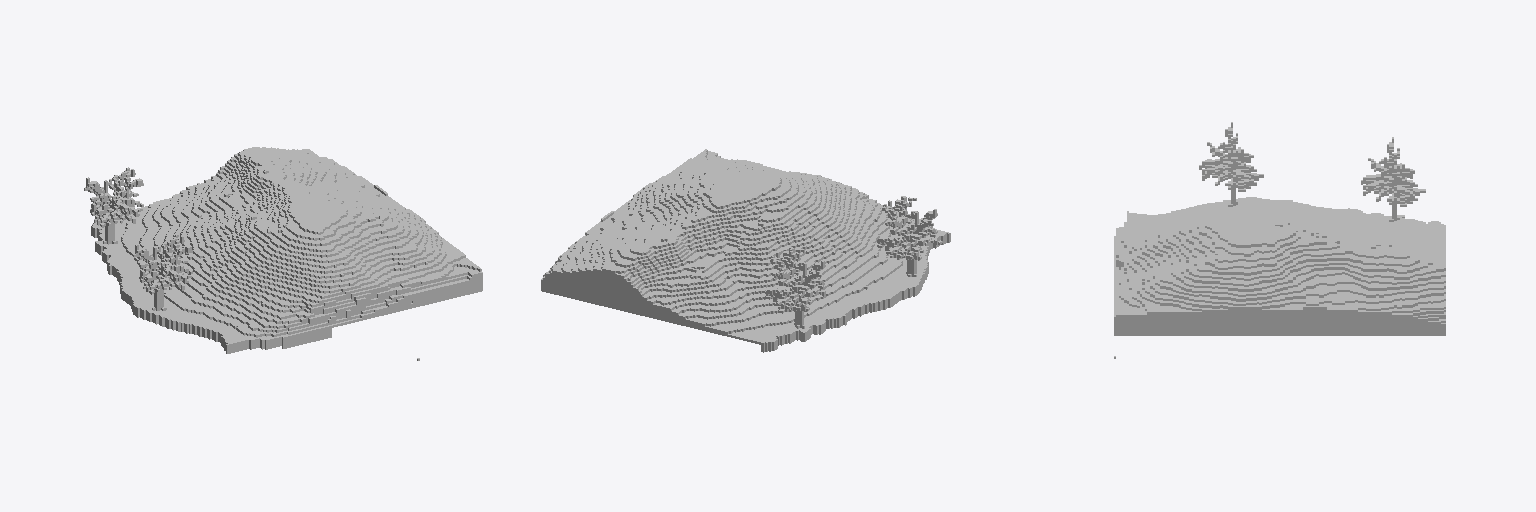
Rendered from Sunkeny City -  Voxel Desert-9-tile 9 - above water 1.obj.
The picture shows the model from 3 angles: view 1: azimuth 30°, elevation 25°; view 2: azimuth 150°, elevation 25°; view 3: azimuth 270°, elevation 25°; orthographic projection.
Visible parts, largest first — view 1: tile 9 - above water 1; view 2: tile 9 - above water 1; view 3: tile 9 - above water 1.
Boxes of the visible parts, x1,y1,x2,y2 form: tile 9 - above water 1: [84, 147, 482, 360]; tile 9 - above water 1: [541, 149, 950, 352]; tile 9 - above water 1: [1114, 122, 1445, 358].
Size of the model in its own units: 12.8 by 5.4 by 12.8.